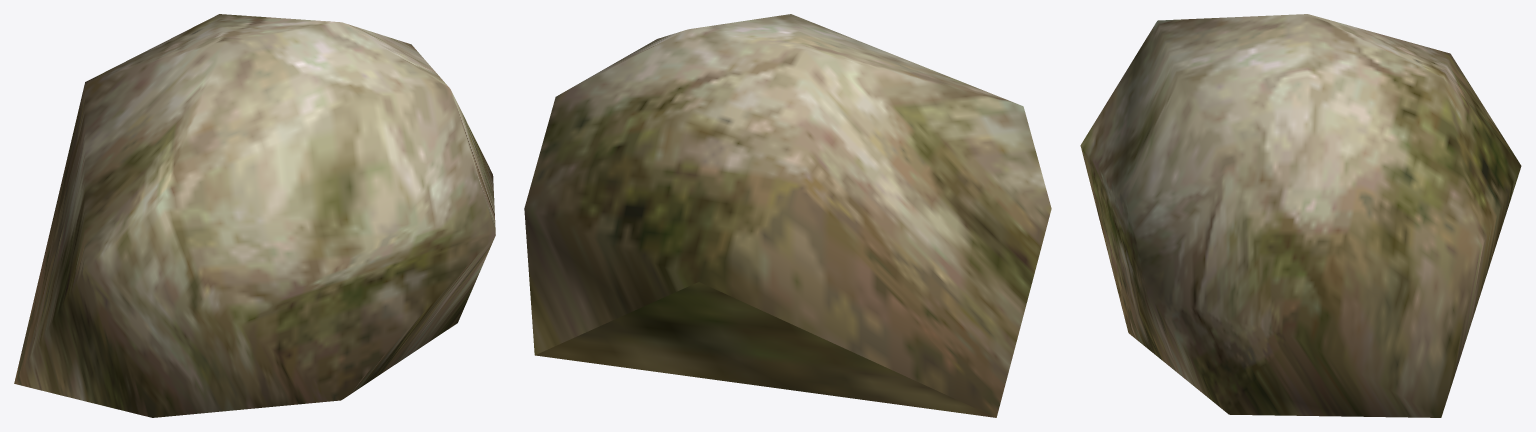
Rendered from obj_macoprro13.glb.
3 renders of one model, left to right at view 1: azimuth 30°, elevation 25°; view 2: azimuth 150°, elevation 25°; view 3: azimuth 270°, elevation 25°, orthographic. The views are drawn at different scales.
Visible parts, largest first — view 1: part_0; view 2: part_0; view 3: part_0.
Part boxes in pixels (x1,y1,x2,y2): part_0: [14, 14, 495, 417]; part_0: [524, 14, 1051, 417]; part_0: [1080, 14, 1521, 417].
Bounding box in the file's own units: 1.72 × 1.08 × 1.41.
Materials: 1 (1 with a texture image).
